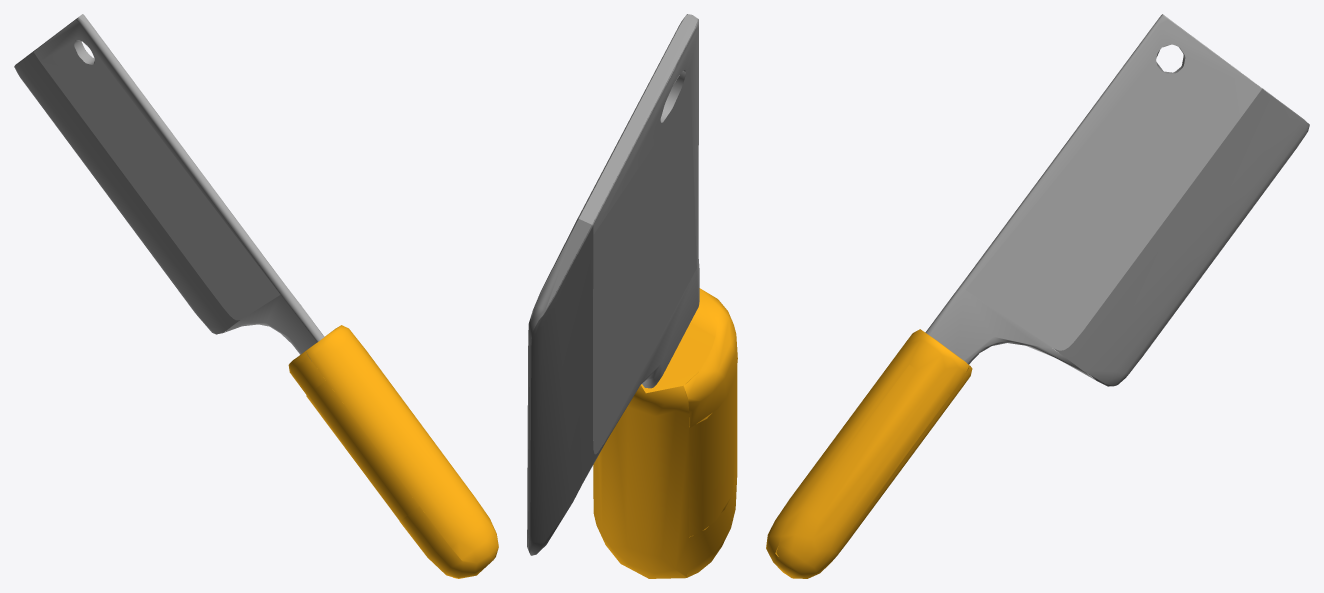
File: knife.glb
3 views of the same model, side by side, from view 1: azimuth 30°, elevation 25°; view 2: azimuth 150°, elevation 25°; view 3: azimuth 270°, elevation 25° (orthographic). The views are drawn at different scales.
Parts seen in each view (by area): view 1: Plane.001ss; view 2: Plane.001ss; view 3: Plane.001ss.
Part boxes in pixels (box(x1,y1,x2,y2)): Plane.001ss: box(14, 14, 498, 578); Plane.001ss: box(527, 14, 737, 578); Plane.001ss: box(766, 14, 1309, 578).
Size of the model in its own units: 1.33 by 2.6 by 2.75.
